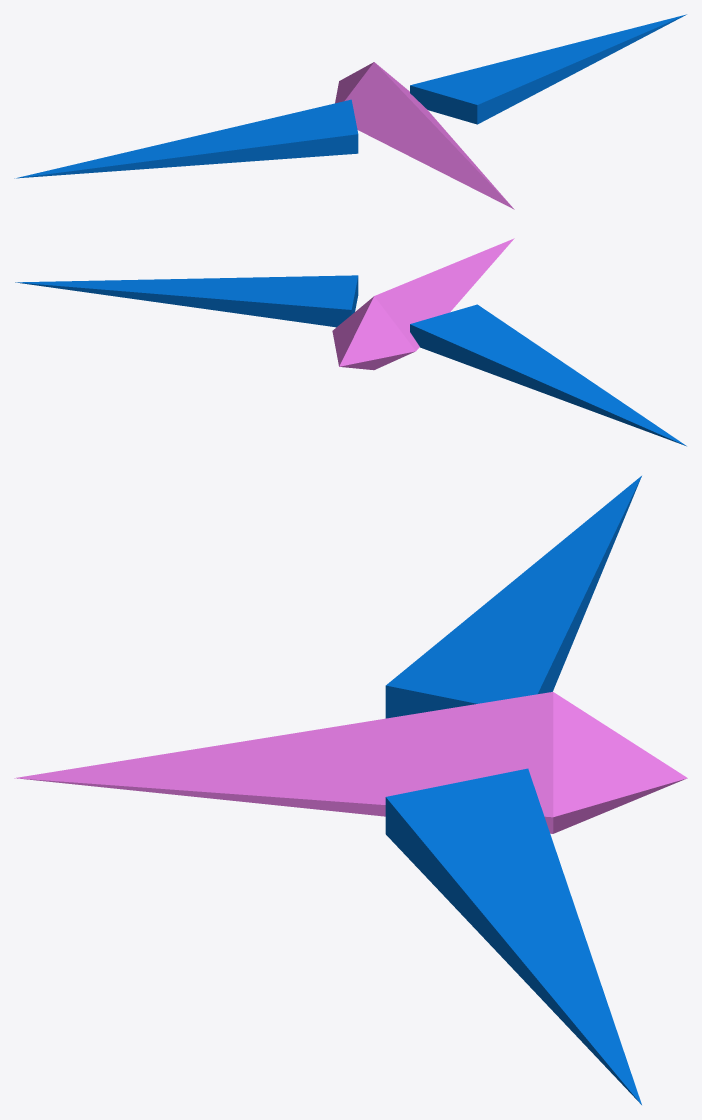
File: player.glb
The picture shows the model from 3 angles, top to bottom: view 1: azimuth 30°, elevation 25°; view 2: azimuth 150°, elevation 25°; view 3: azimuth 270°, elevation 25°; orthographic projection. The views are drawn at different scales.
Parts seen in each view (by area): view 1: Cube; view 2: Cube; view 3: Cube.
Part boxes in pixels (x1=…): Cube: x1=14, y1=14, x2=686, y2=209; Cube: x1=15, y1=238, x2=686, y2=446; Cube: x1=14, y1=476, x2=687, y2=1104.
Bounding box in the file's own units: 4.43 × 0.4657 × 2.
